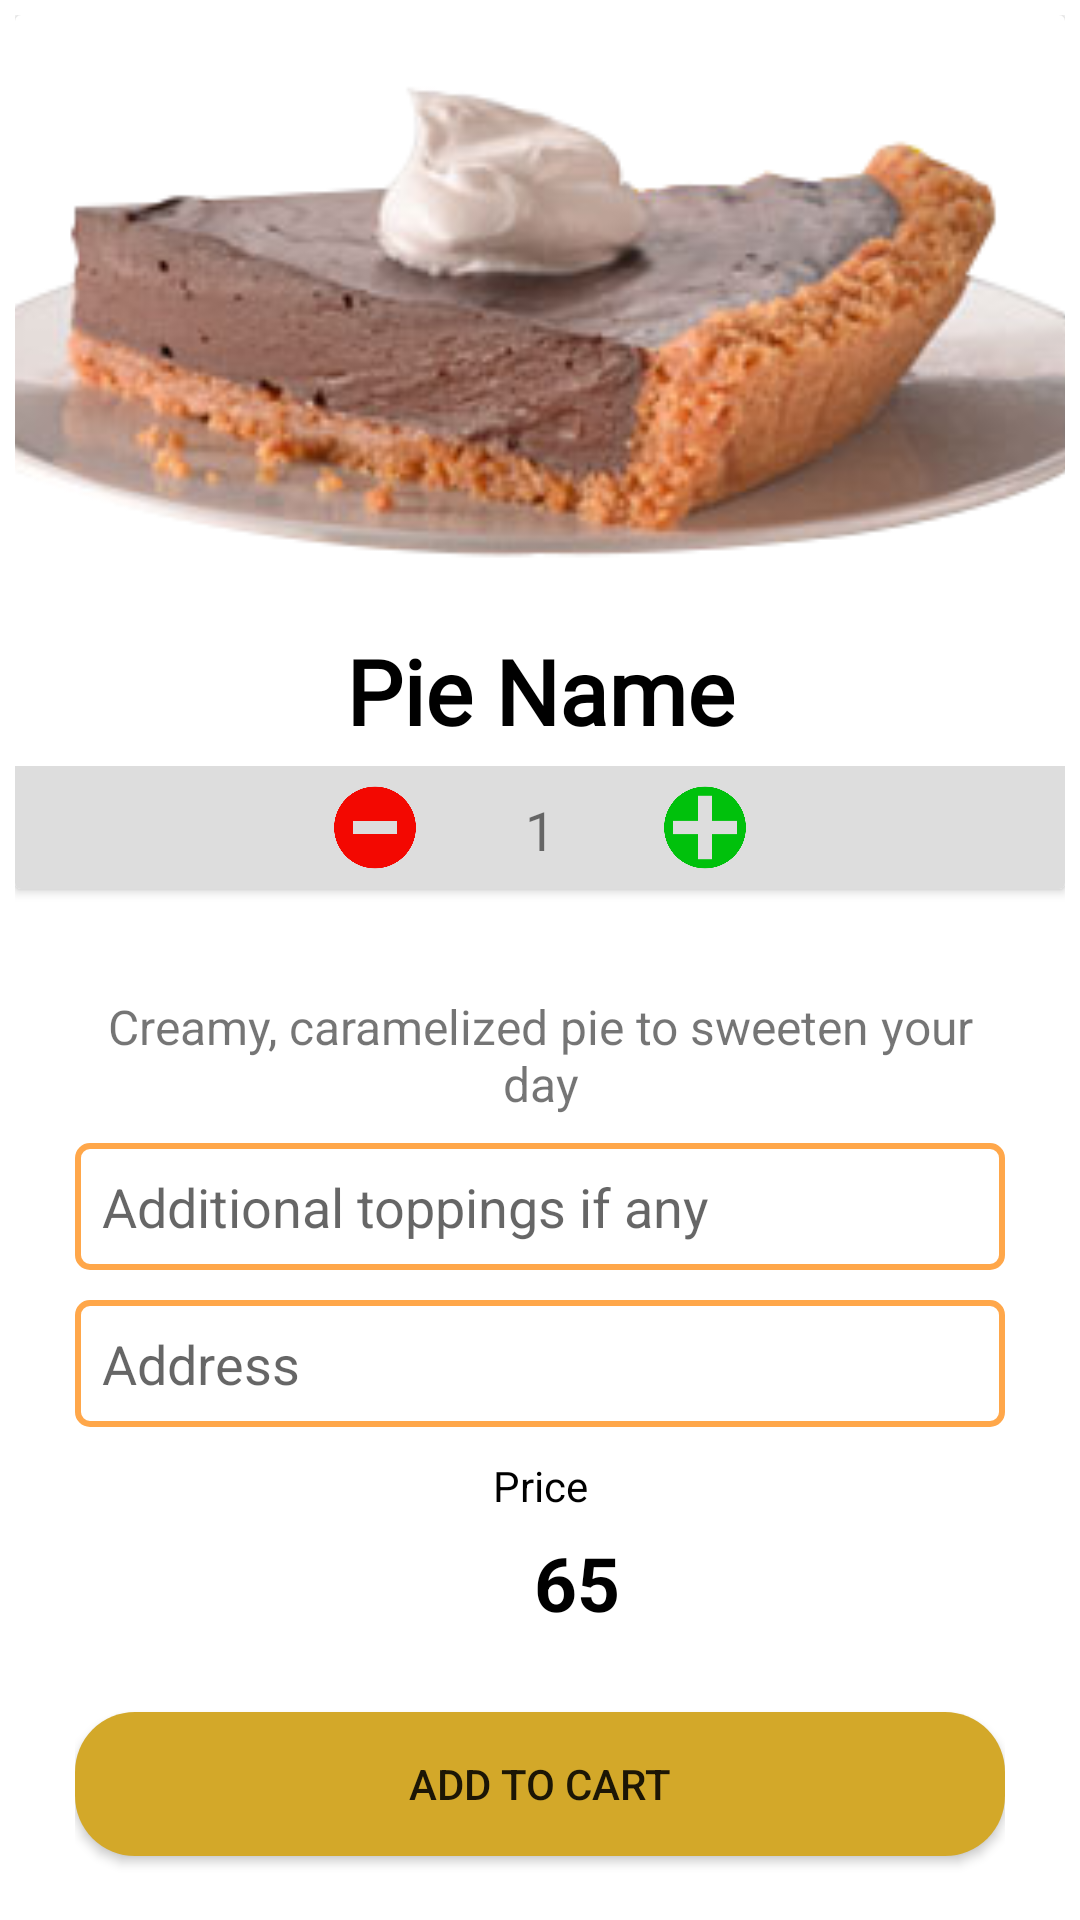

Named icons in this screenshot (1080px x 1920px) and their centers, point (x, y):
minus: point (375, 827)
plus: point (705, 827)
